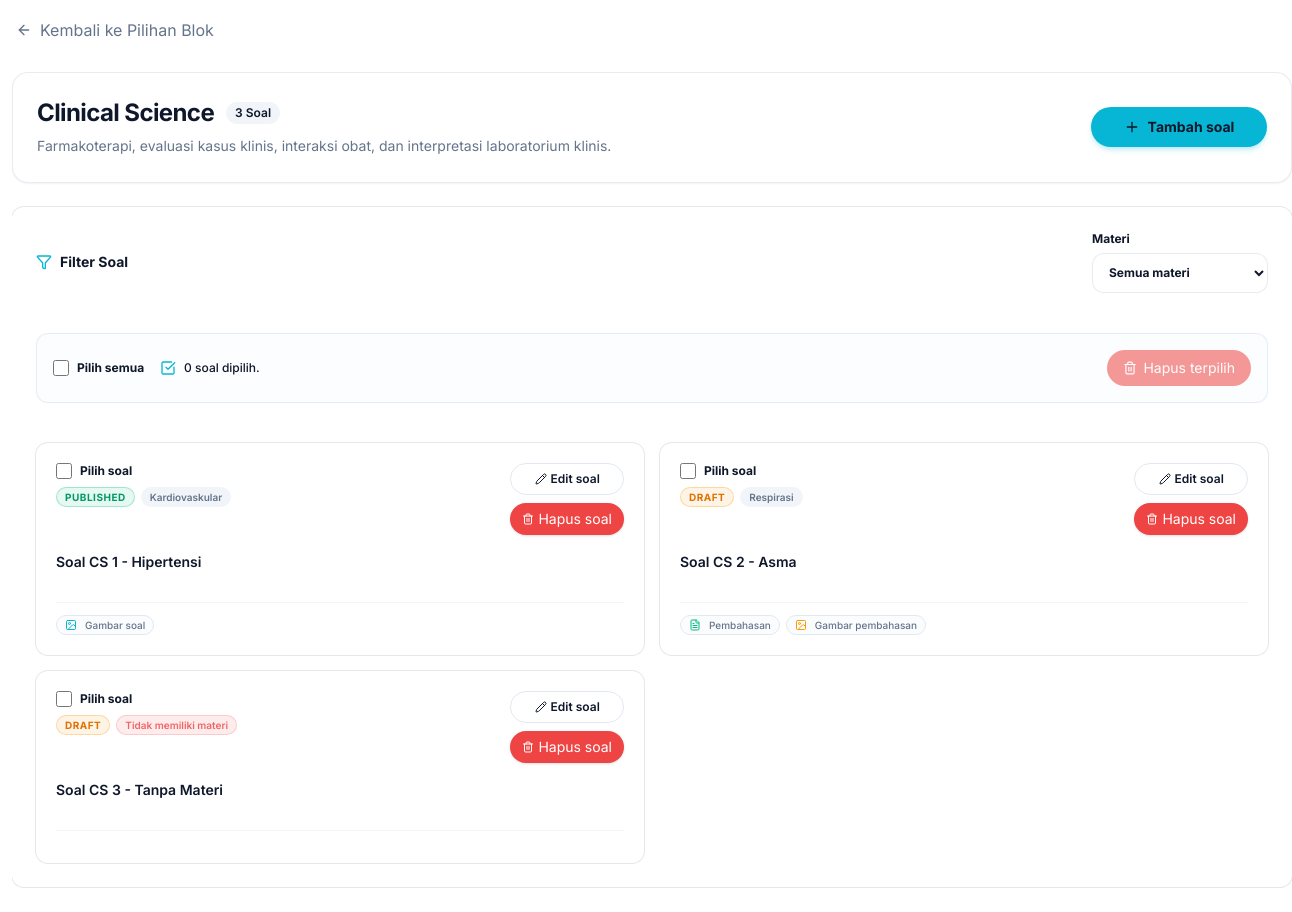
Scenario: QuestionBlockListView › filters questions strictly by selected topic
Expected: the heading "Soal CS 1 - Hipertensi" is shown, [56,553,201,570]
Expected: the heading "Soal CS 2 - Asma" is shown, [680,553,797,570]
Select "Kardiovaskular" in the dropdown labelled "Materi": coordinates (1180, 273) [1092,253,1268,293]
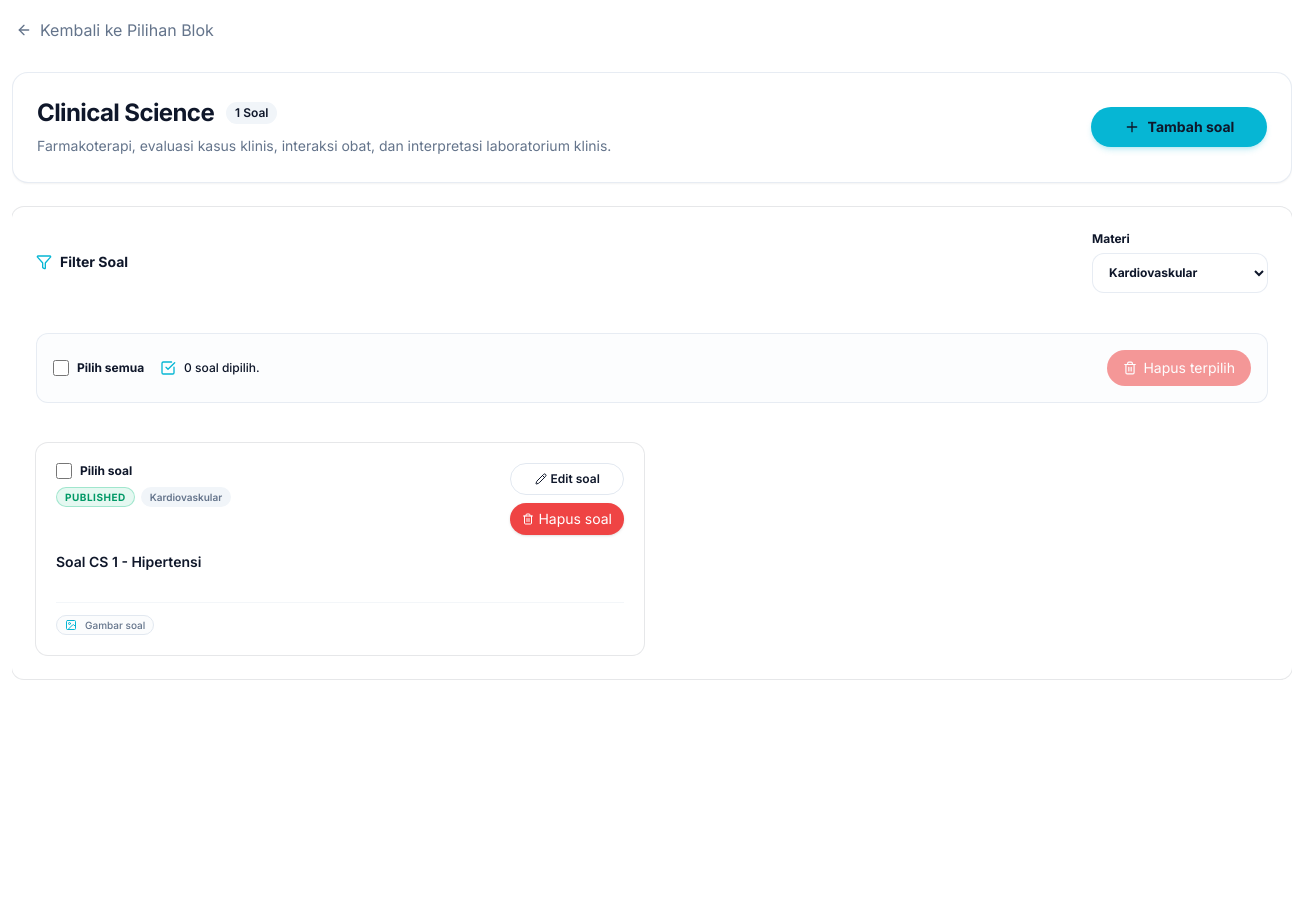
Result: the heading "Soal CS 2 - Asma" is gone
Result: the heading "Soal CS 3 - Tanpa Materi" is gone
Result: the text "1 Soal" is shown at [226,102,278,124]
